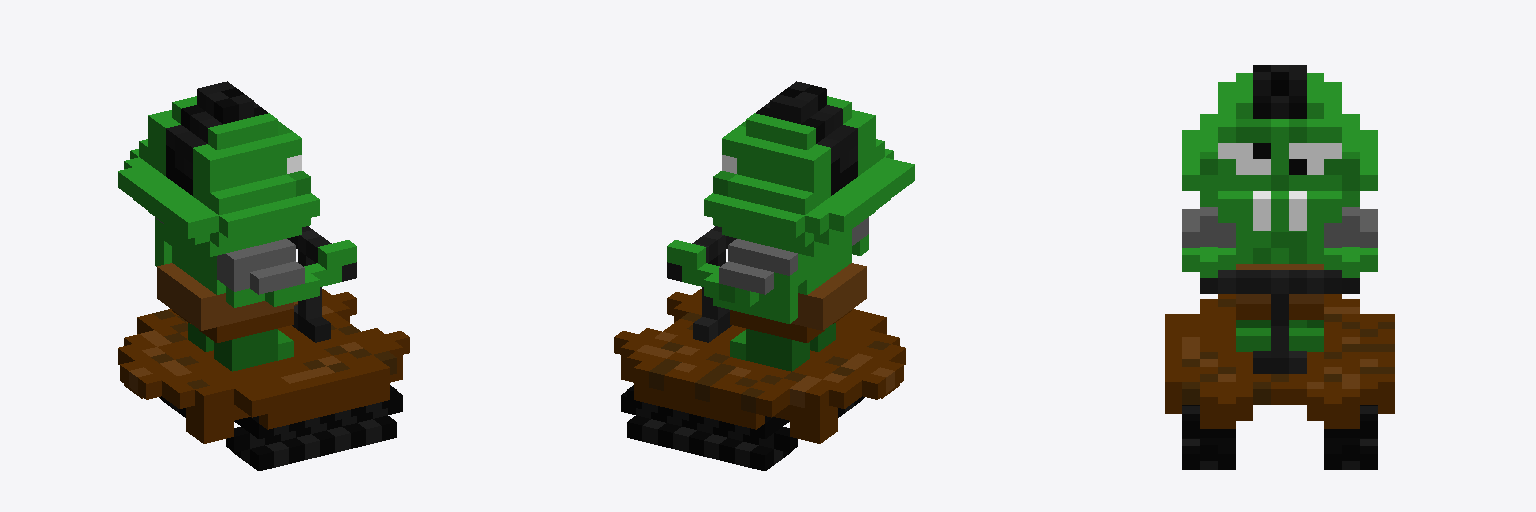
3 views of the same model, side by side, from view 1: azimuth 30°, elevation 25°; view 2: azimuth 150°, elevation 25°; view 3: azimuth 270°, elevation 25° (orthographic).
Size of the model in its own units: 16 by 21 by 13.
1 materials, 1 textured.